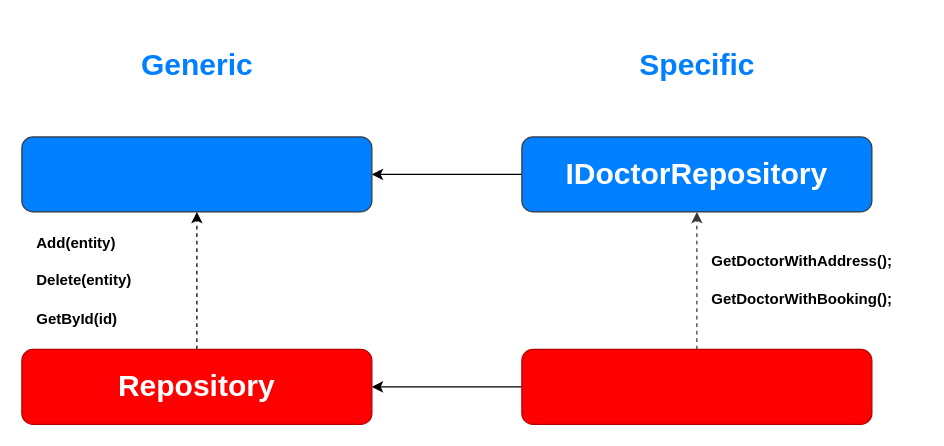
The diagram is 944 pixels wide and 446 high, and some of its shapes have lost their labels. Each missing label, with the centre of its shape:
"DoctorRepository" goes at pixel 696 386.
"IRepository" goes at pixel 196 174.
